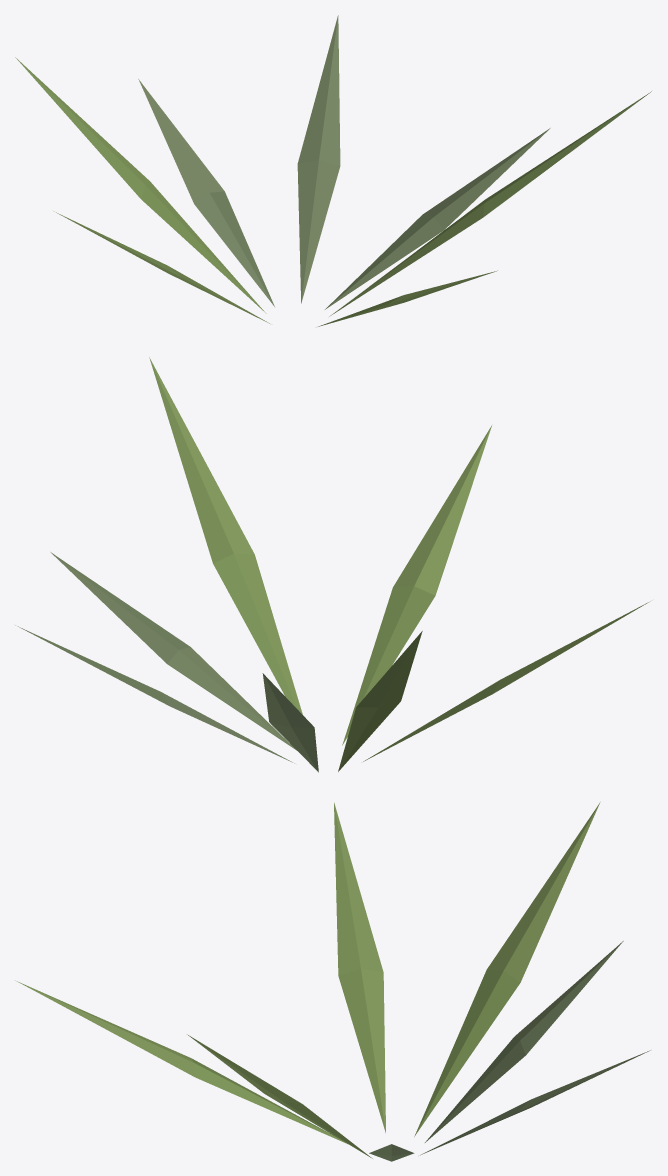
File: Plant_Common_TallGrassFan_001_LOD1.glb
The picture shows the model from 3 angles, top to bottom: view 1: azimuth 30°, elevation 25°; view 2: azimuth 150°, elevation 25°; view 3: azimuth 270°, elevation 25°; orthographic projection. The views are drawn at different scales.
Parts seen in each view (by area): view 1: Plant_Common_TallGrassFan_001_LOD1; view 2: Plant_Common_TallGrassFan_001_LOD1; view 3: Plant_Common_TallGrassFan_001_LOD1.
Boxes of the visible parts, left/top/right/bottom form: Plant_Common_TallGrassFan_001_LOD1: left=15, top=15, right=651, bottom=326; Plant_Common_TallGrassFan_001_LOD1: left=15, top=357, right=650, bottom=772; Plant_Common_TallGrassFan_001_LOD1: left=15, top=802, right=650, bottom=1161.
Bounding box in the file's own units: 1.99 × 0.8403 × 1.95.
